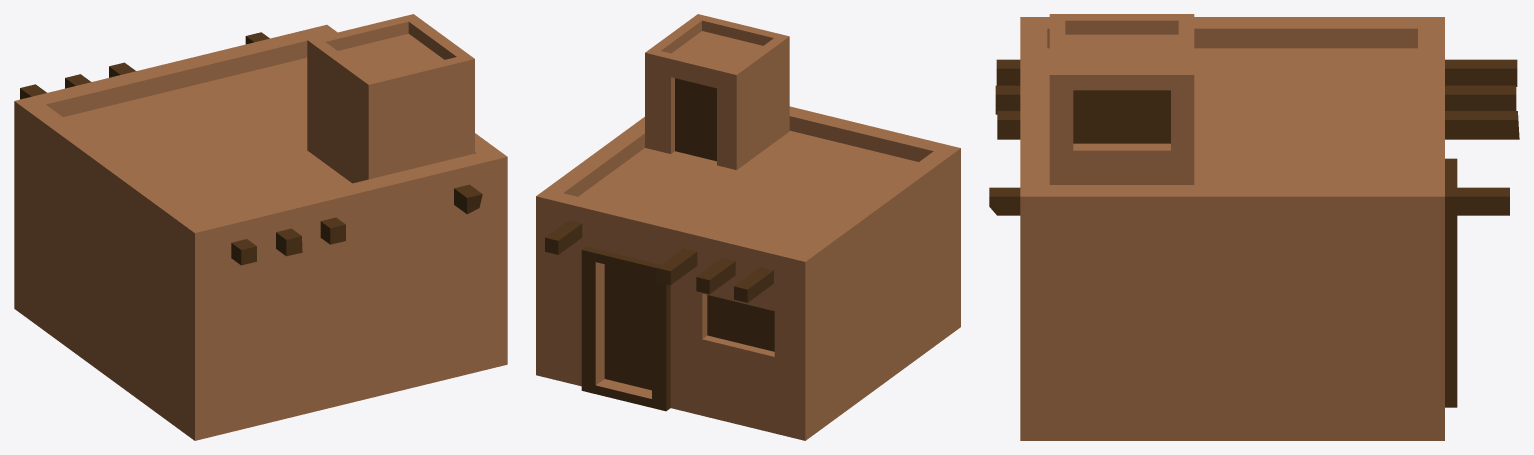
Rendered from Hut(Level 1).fbx.
3 renders of one model, left to right at view 1: azimuth 30°, elevation 25°; view 2: azimuth 150°, elevation 25°; view 3: azimuth 270°, elevation 25°, orthographic. The views are drawn at different scales.
Visible parts, largest first — view 1: Cube.002; view 2: Cube.002; view 3: Cube.002.
Part boxes in pixels (left/top/right/bottom): Cube.002: left=14, top=14, right=507, bottom=440; Cube.002: left=536, top=14, right=960, bottom=440; Cube.002: left=989, top=14, right=1519, bottom=440.
Size of the model in its own units: 11.81 by 10.87 by 14.74.
